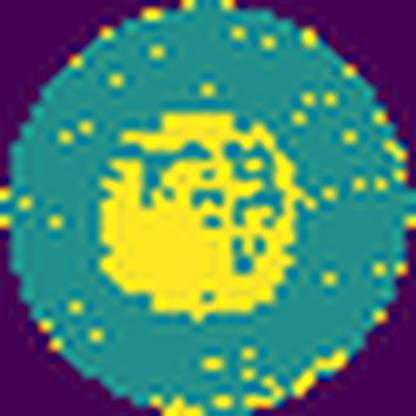Center: (101, 111, 295, 319)
